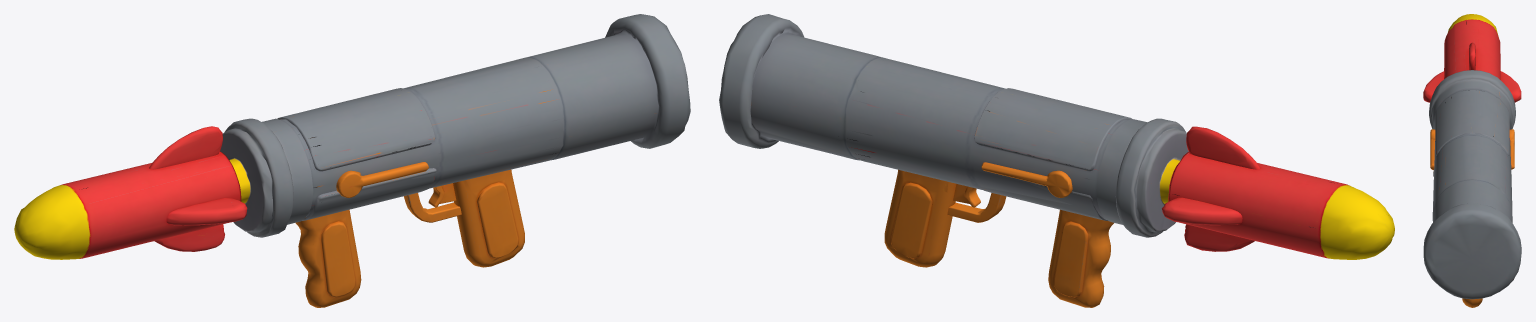
Rendered from rpg.glb.
3 renders of one model, left to right at view 1: azimuth 30°, elevation 25°; view 2: azimuth 150°, elevation 25°; view 3: azimuth 270°, elevation 25°, orthographic. The views are drawn at different scales.
Parts seen in each view (by area): view 1: geometry_0; view 2: geometry_0; view 3: geometry_0.
Boxes of the visible parts, x1,y1,x2,y2 form: geometry_0: (14,14,690,307); geometry_0: (719,14,1394,307); geometry_0: (1423,14,1521,307).
Bounding box in the file's own units: 0.9575 × 0.2935 × 0.1714.
1 material, 1 textured.
